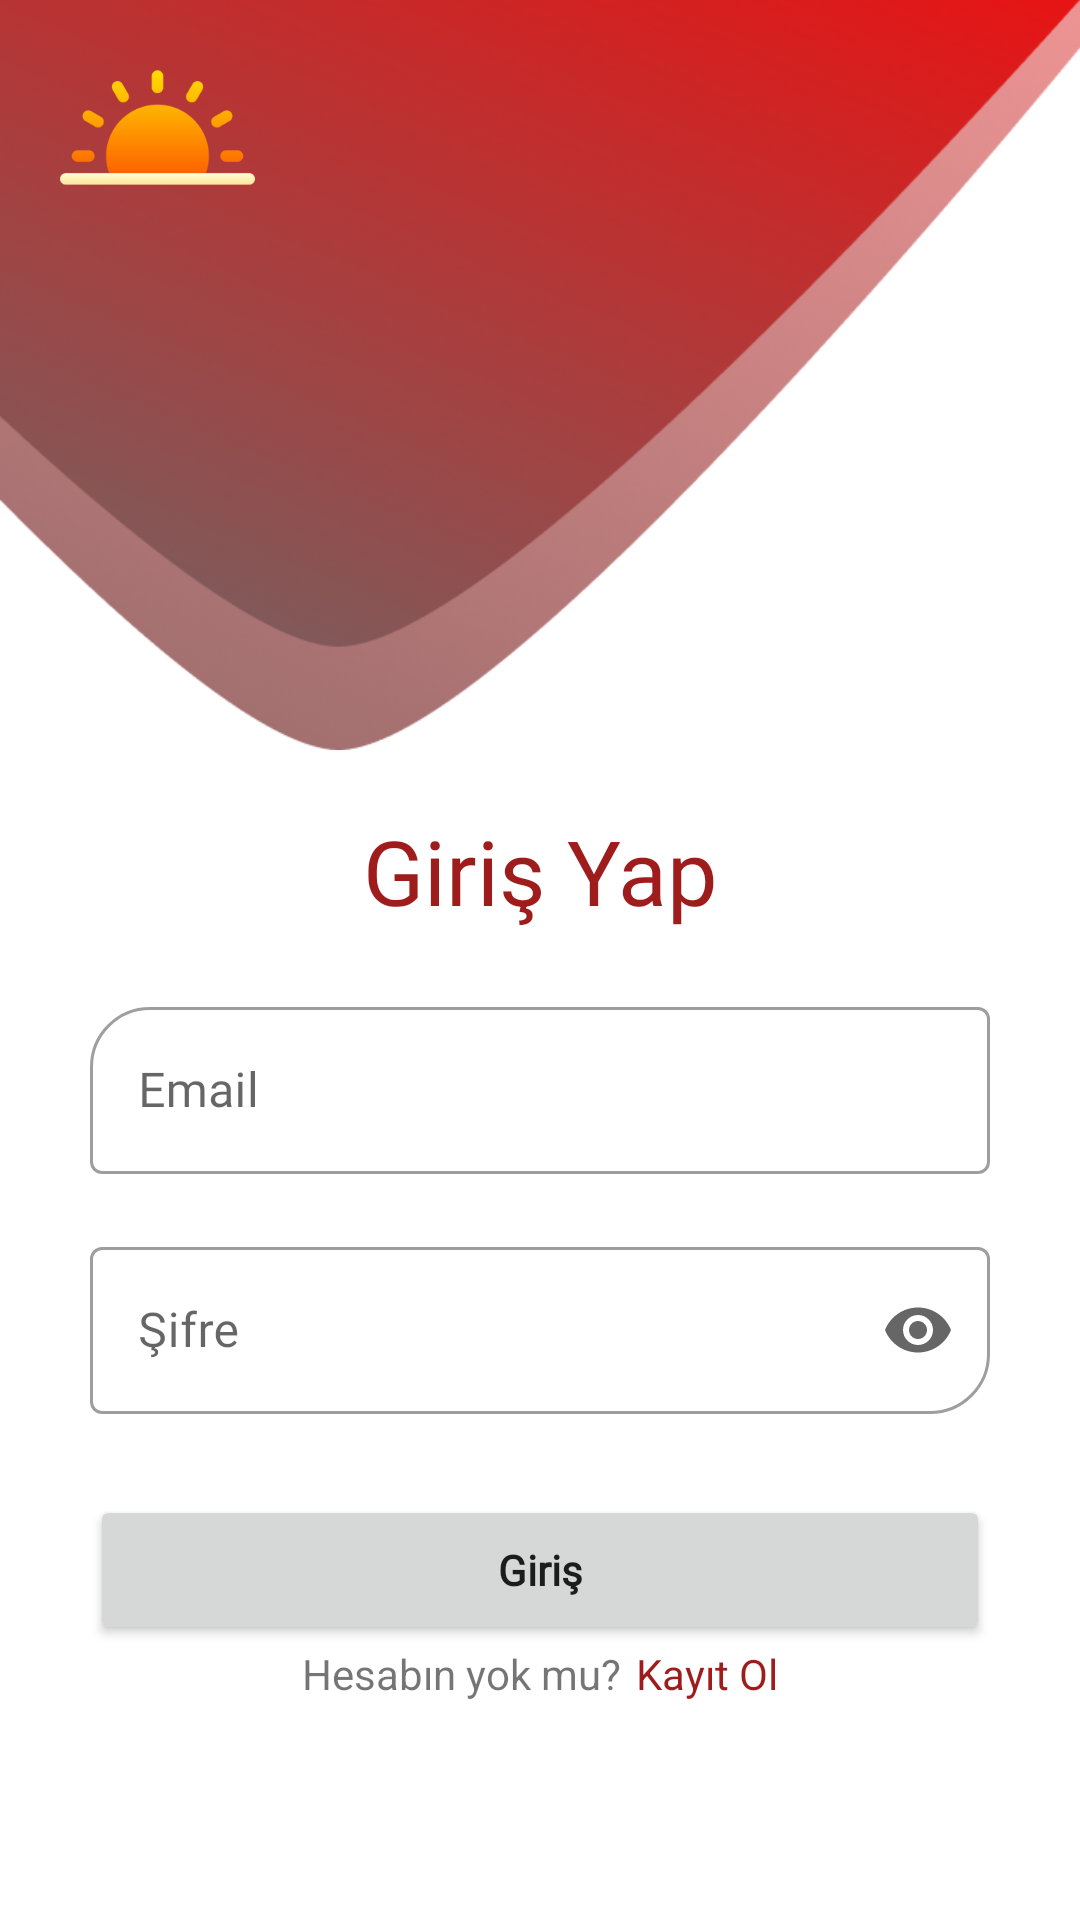

Point at icon controls on the screen. Image size 1080x1920, points as [x,y].
morning: [157,145]
